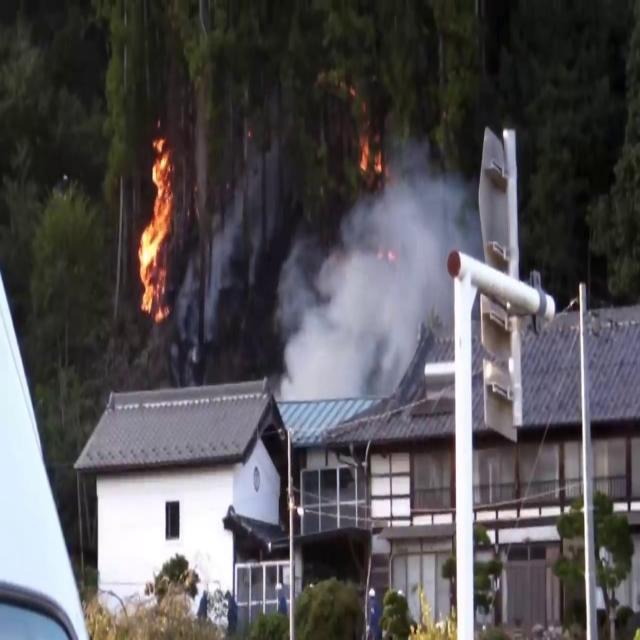Fire: (134, 128, 178, 321)
Smoke: (276, 151, 468, 403), (190, 190, 242, 330)
